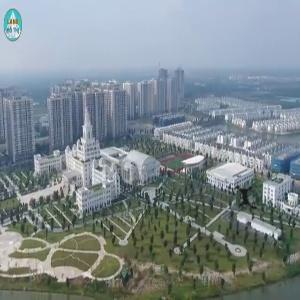drone: (216, 166, 281, 231)
